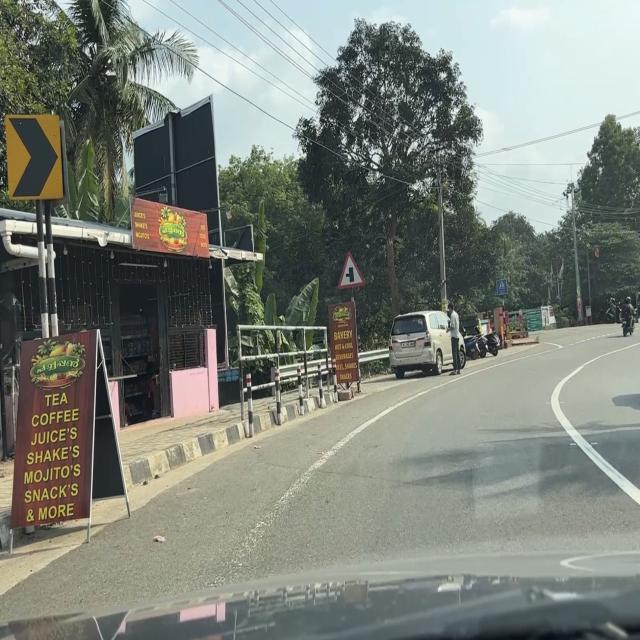GENERAL: (526, 310, 542, 332)
SIDE_ROAD_LEFT: (338, 250, 366, 290)
TURN_RIGHT: (4, 113, 64, 201)
